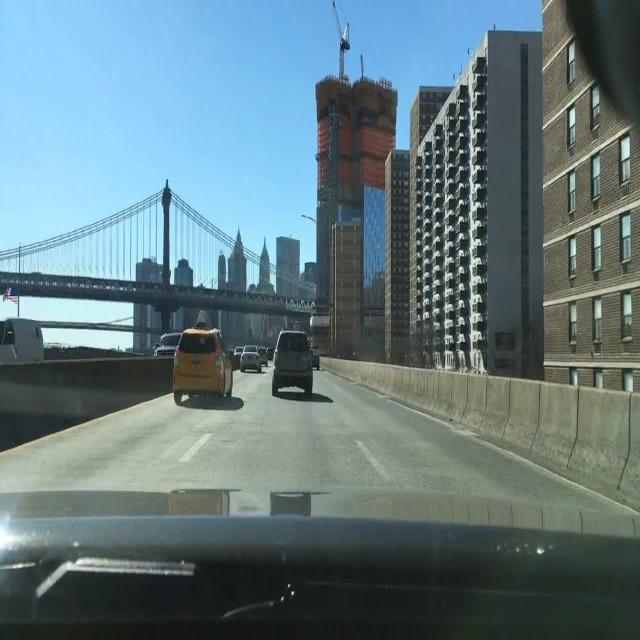normal: (155, 313, 251, 420), (256, 316, 335, 410)
